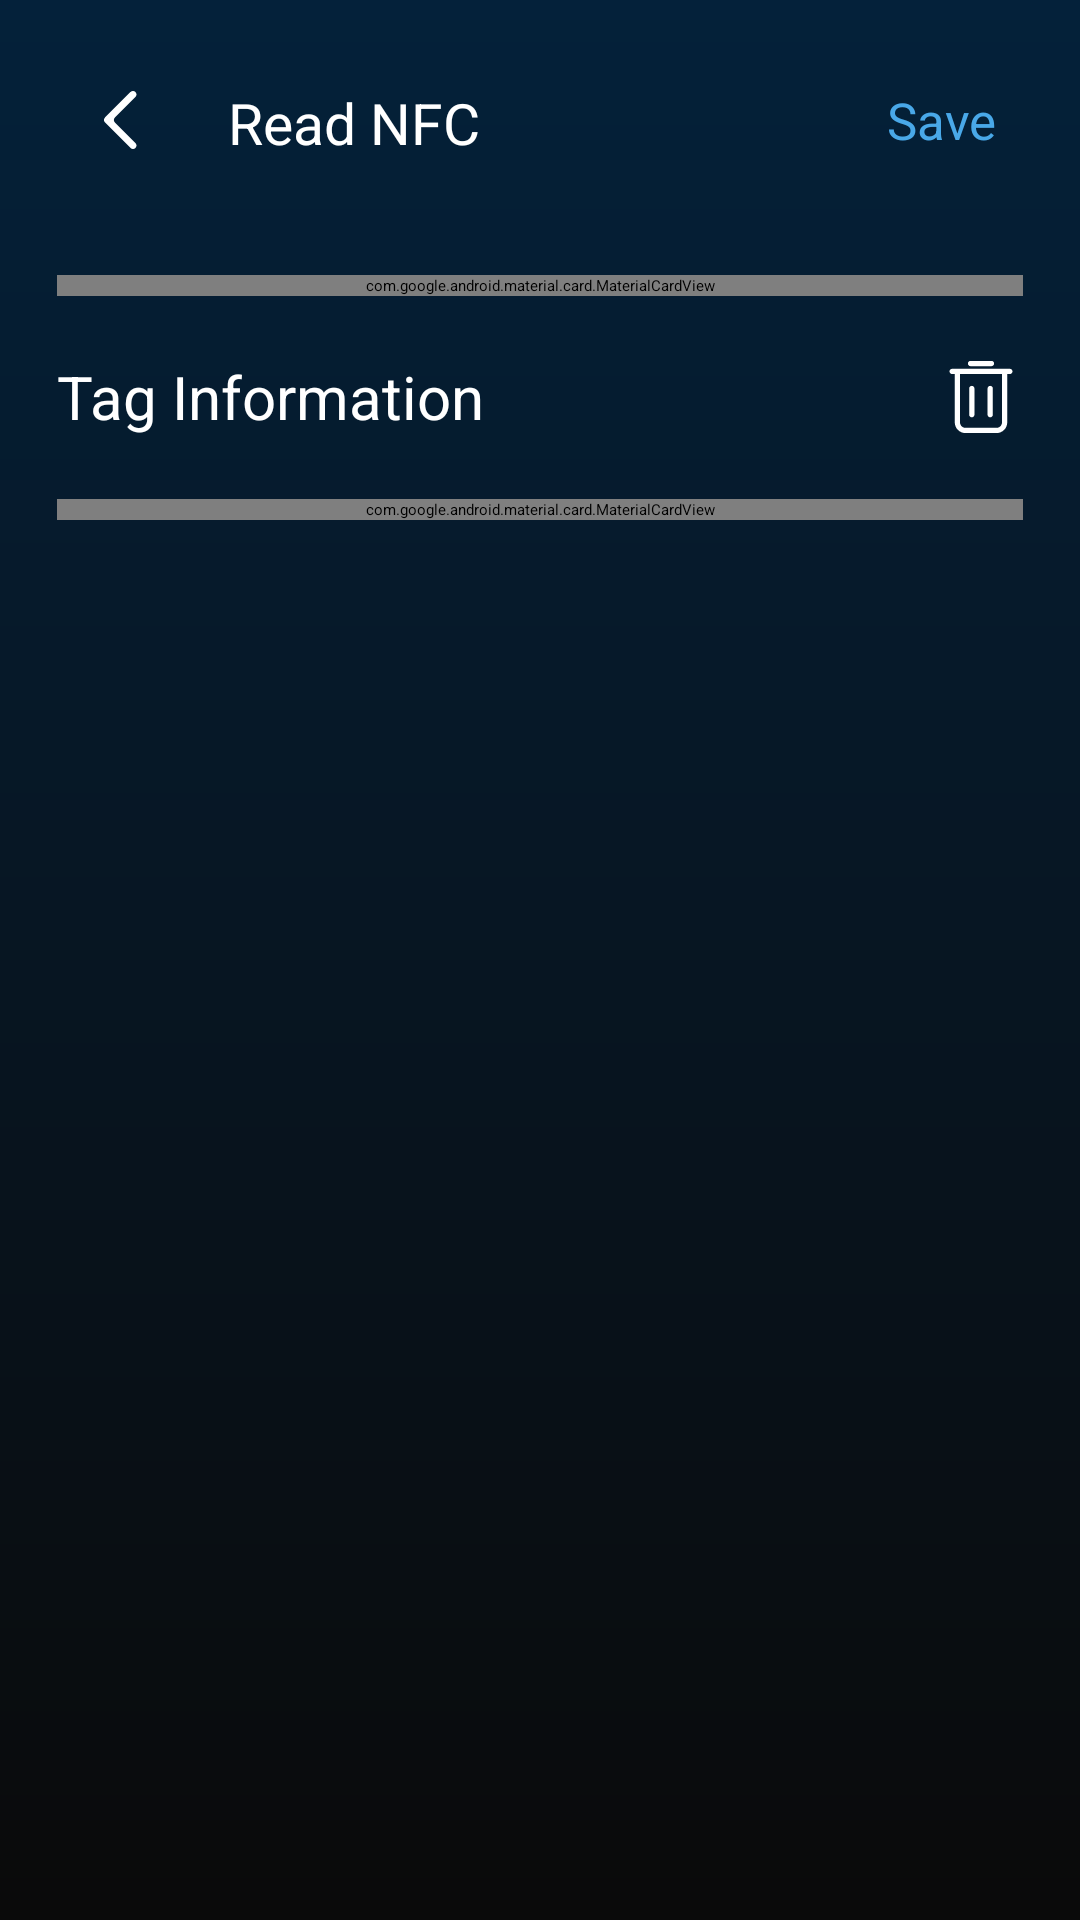

Where icons sit on this 1080px×1920px app screen, as detection(x1, y1, x2, y2):
Back: detection(104, 91, 137, 149)
delete: detection(949, 361, 1013, 433)
